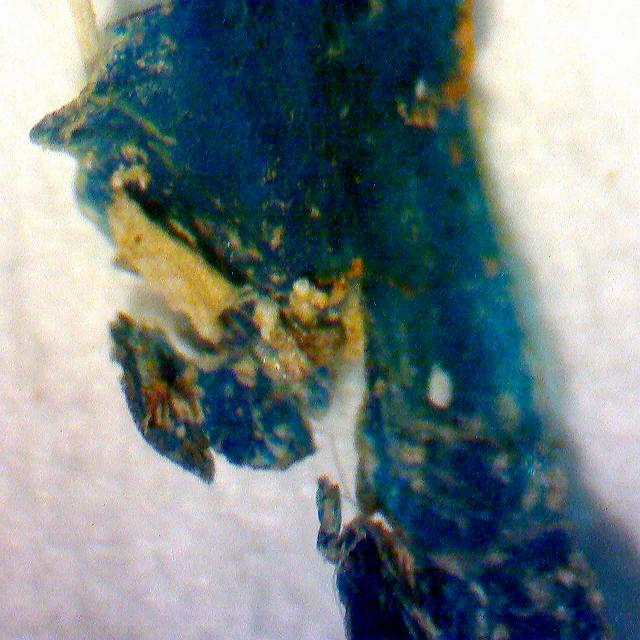microplastic: (31, 0, 629, 640)
